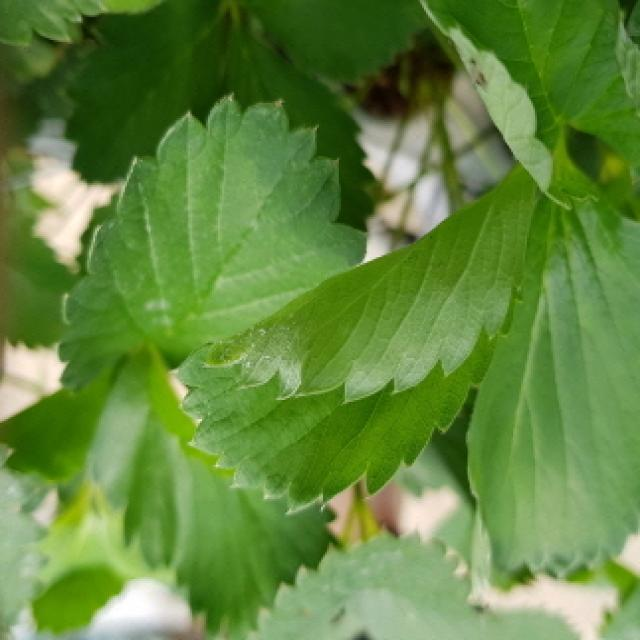Powdery Mildew Leaf: (205, 323, 309, 402)
